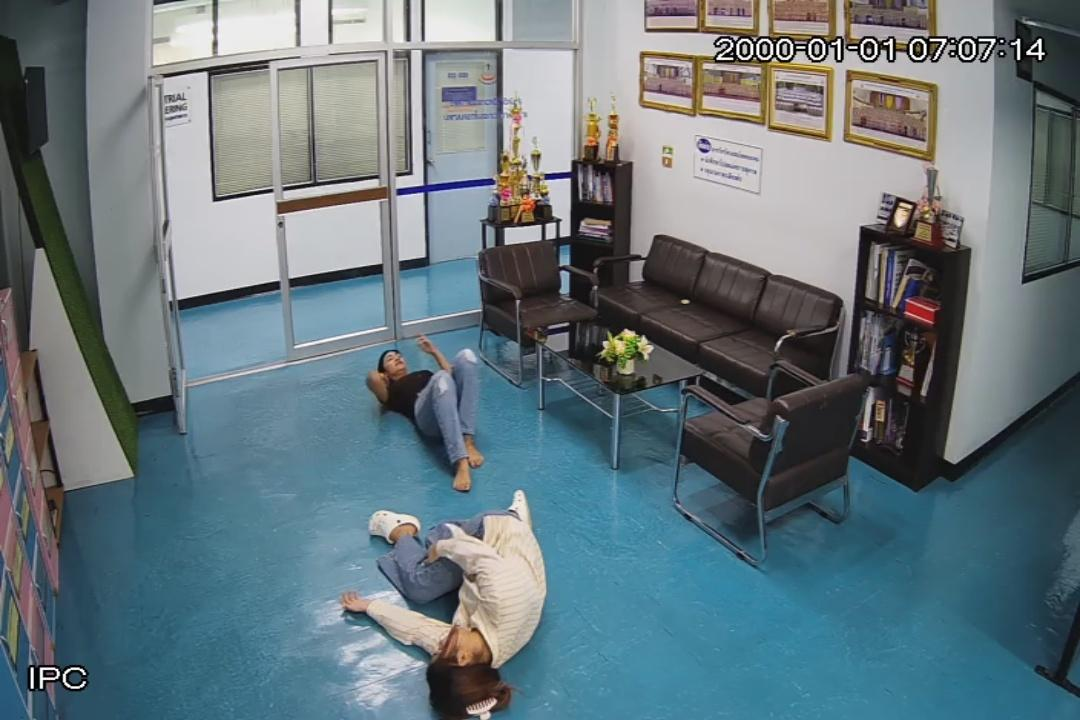fall: (353, 496, 546, 720), (369, 337, 487, 490)
